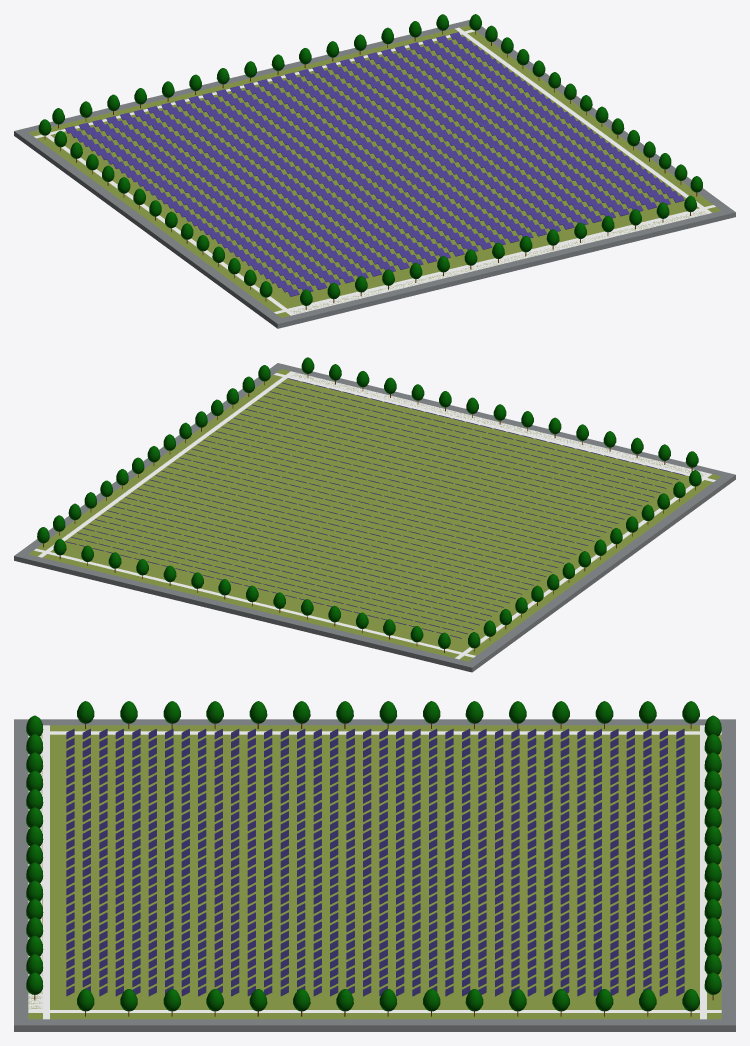
File: 450_solar_panels.dae
3 views of the same model, one above another, from view 1: azimuth 30°, elevation 25°; view 2: azimuth 150°, elevation 25°; view 3: azimuth 270°, elevation 25° (orthographic). The views are drawn at different scales.
Visible parts, largest first — view 1: Component_6 (×10); view 2: Component_6 (×9); view 3: Component_6 (×9).
Boxes of the visible parts, x1,y1,x2,y2 form: Component_6 (×10): (14, 20, 735, 328); Component_6 (×9): (14, 363, 735, 672); Component_6 (×9): (14, 719, 735, 1031).
Size of the model in its own units: 97.8 by 97.5 by 4.99.
